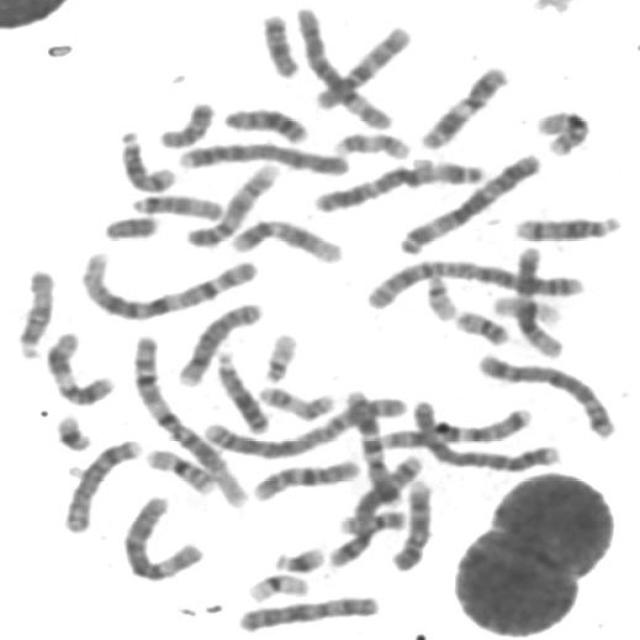A1: (126, 327, 254, 508), (73, 243, 261, 321)
A2: (197, 389, 412, 461), (359, 252, 589, 310)
A3: (394, 145, 546, 256), (307, 154, 490, 215)
B4: (404, 394, 565, 474), (170, 134, 353, 177)
B5: (471, 346, 620, 440), (323, 446, 428, 571)
C10: (307, 18, 416, 112), (246, 451, 364, 503)
C11: (414, 58, 514, 152), (38, 324, 120, 408)
C12: (508, 241, 567, 360), (226, 212, 346, 265)
C6: (290, 0, 397, 132), (116, 488, 208, 582)
C7: (371, 401, 535, 452), (338, 384, 403, 508)
C8: (56, 431, 146, 535), (172, 294, 266, 388)
C9: (179, 156, 282, 248), (385, 472, 438, 573)
D13: (210, 345, 274, 436), (217, 99, 312, 145)
D14: (113, 123, 180, 194), (508, 208, 625, 243)
D15: (10, 262, 58, 361), (126, 186, 227, 222)
E16: (140, 441, 218, 496), (530, 101, 594, 158)
E17: (252, 377, 339, 423), (328, 124, 414, 161)
E18: (153, 94, 218, 149), (256, 6, 304, 79)
F19: (486, 288, 565, 326), (242, 566, 313, 604)
F20: (449, 303, 513, 347), (333, 504, 409, 535)
G21: (48, 408, 95, 453), (269, 540, 328, 574)
G22: (258, 325, 302, 384), (419, 267, 461, 322)
X: (230, 588, 384, 634)
Y: (98, 208, 162, 242)
